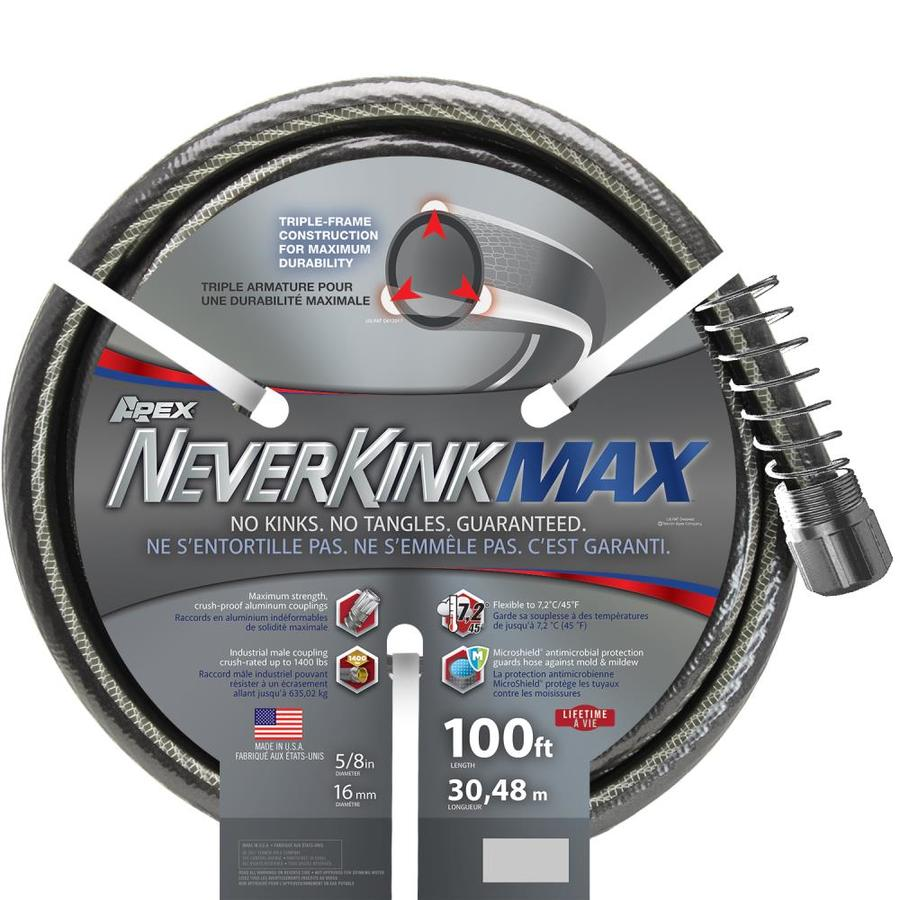Nonrec_Tangler: (1, 62, 880, 771)
